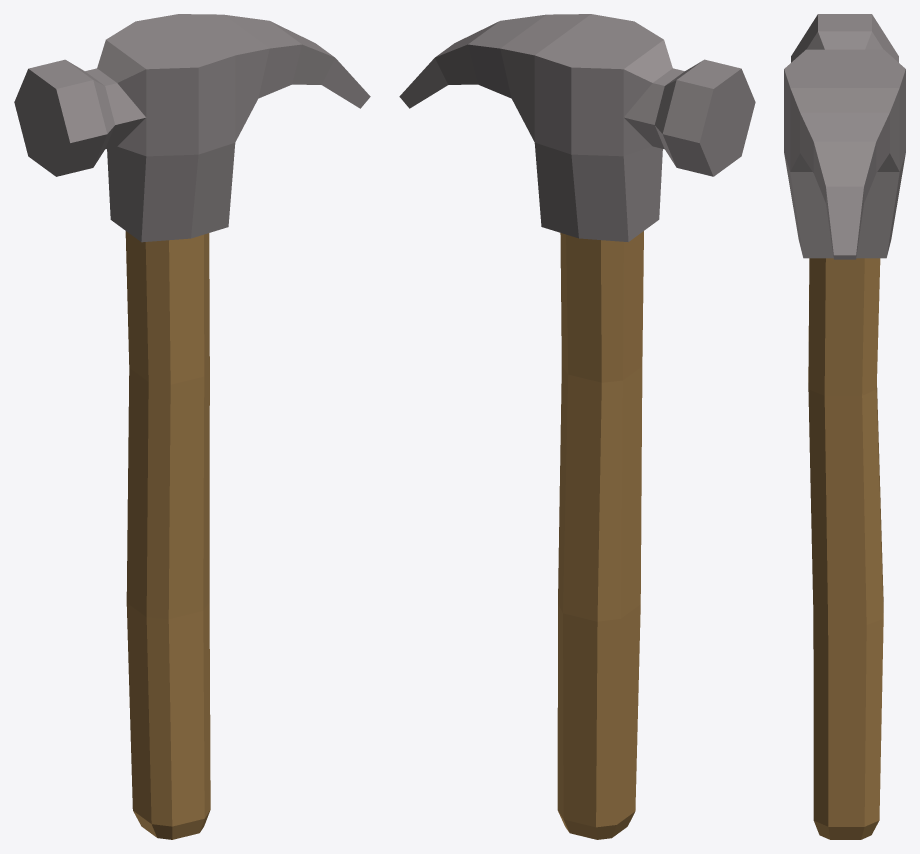
File: Hammer(2).fbx
The picture shows the model from 3 angles, left to right: view 1: azimuth 30°, elevation 25°; view 2: azimuth 150°, elevation 25°; view 3: azimuth 270°, elevation 25°; orthographic projection. The views are drawn at different scales.
Parts seen in each view (by area): view 1: Hammer(2); view 2: Hammer(2); view 3: Hammer(2).
Boxes of the visible parts, left/top/right/bottom form: Hammer(2): left=14, top=14, right=370, bottom=839; Hammer(2): left=399, top=14, right=755, bottom=839; Hammer(2): left=784, top=14, right=905, bottom=839.
Size of the model in its own units: 20.48 by 47.54 by 6.93.
